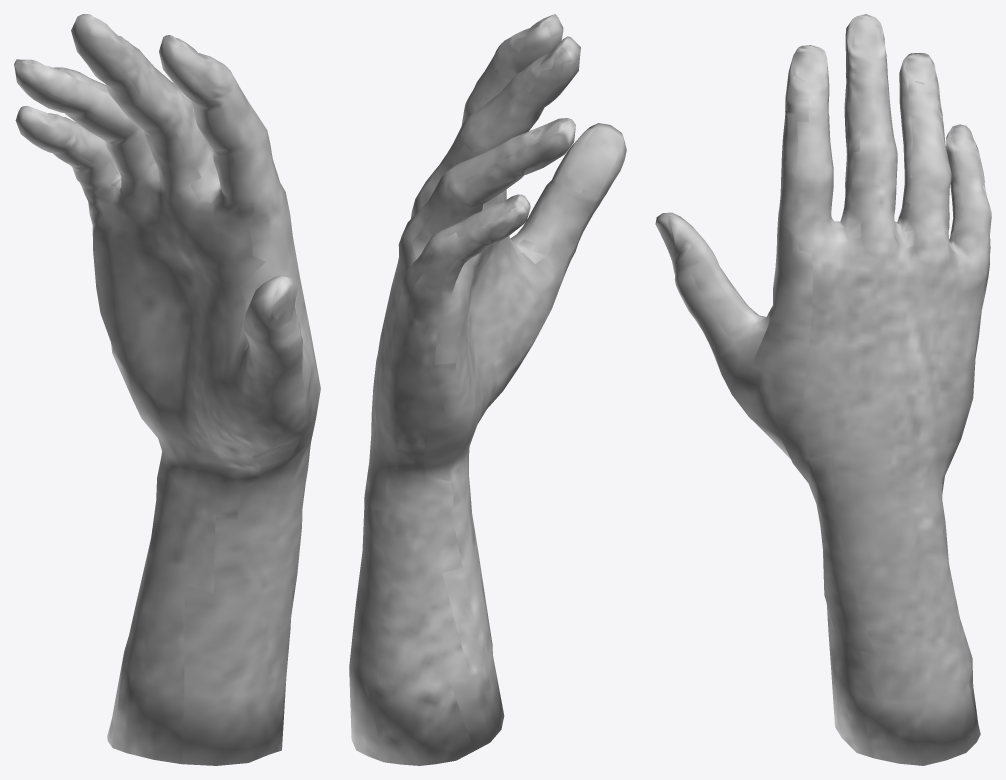
Rendered from hand.obj.
3 views of the same model, side by side, from view 1: azimuth 30°, elevation 25°; view 2: azimuth 150°, elevation 25°; view 3: azimuth 270°, elevation 25° (orthographic). The views are drawn at different scales.
Visible parts, largest first — view 1: hand:group189 hand:model_standingFBXASC045female_muscle_13442 ha; view 2: hand:group189 hand:model_standingFBXASC045female_muscle_13442 ha; view 3: hand:group189 hand:model_standingFBXASC045female_muscle_13442 ha.
Boxes of the visible parts, x1,y1,x2,y2 form: hand:group189 hand:model_standingFBXASC045female_muscle_13442 ha: (14, 14, 320, 765); hand:group189 hand:model_standingFBXASC045female_muscle_13442 ha: (349, 14, 626, 765); hand:group189 hand:model_standingFBXASC045female_muscle_13442 ha: (655, 14, 991, 765).
Bounding box in the file's own units: 3.5 × 10.74 × 4.9.
1 material, 1 textured.
